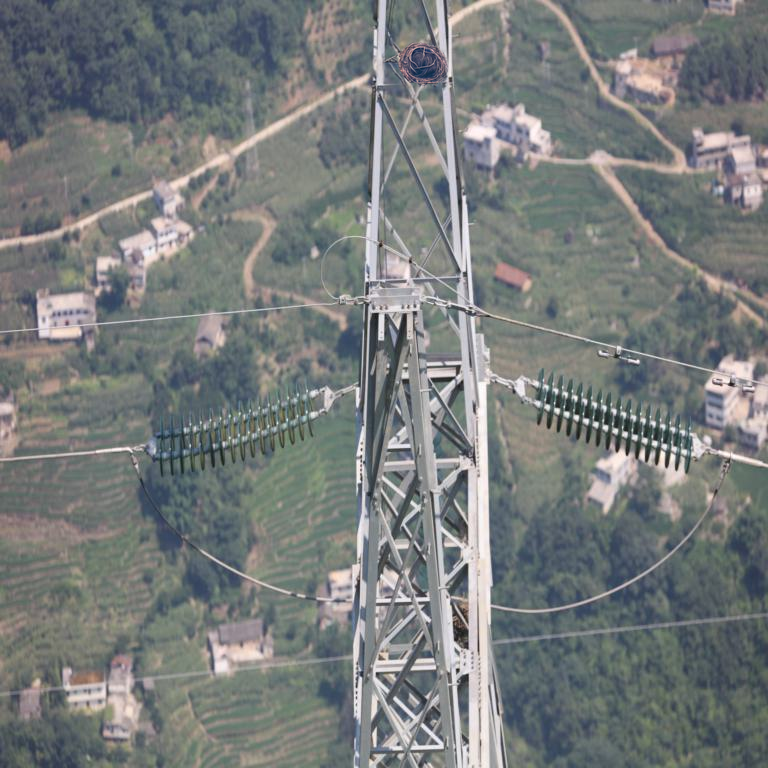nest: (394, 43, 454, 85), (448, 597, 468, 647)
